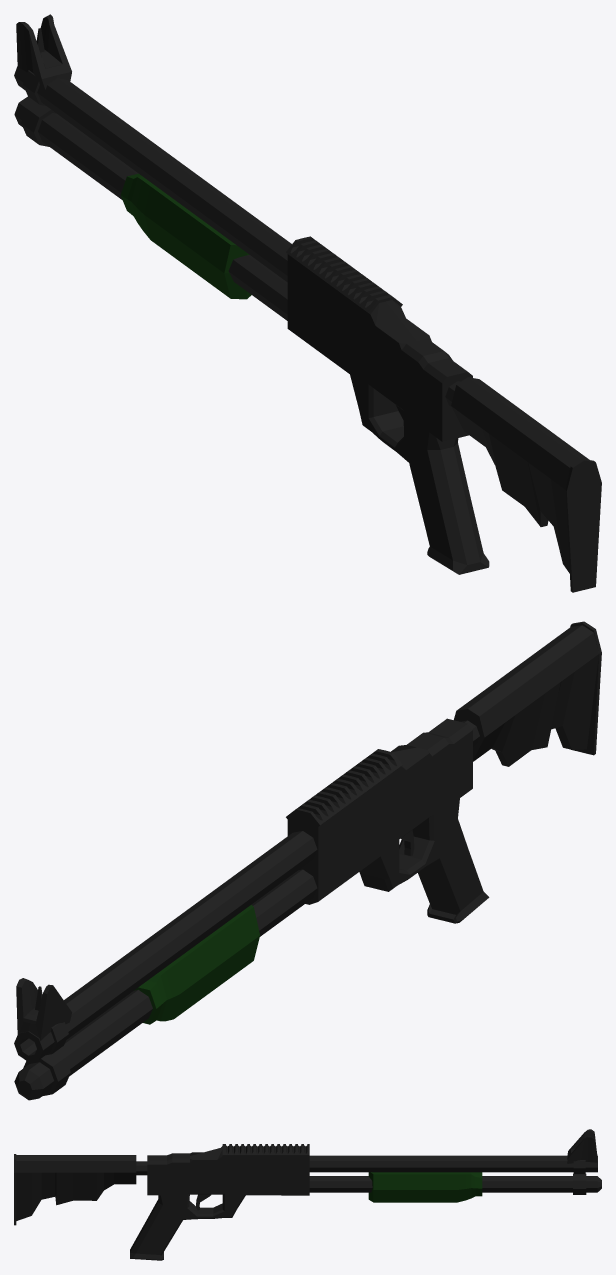
Rendered from shotgun_01.gltf.
3 renders of one model, top to bottom at view 1: azimuth 30°, elevation 25°; view 2: azimuth 150°, elevation 25°; view 3: azimuth 270°, elevation 25°, orthographic. The views are drawn at different scales.
Visible parts, largest first — view 1: Gun, Pump; view 2: Gun, Pump; view 3: Gun, Pump.
Boxes of the visible parts, x1,y1,x2,y2 form: Gun: (14, 14, 601, 592); Pump: (120, 173, 251, 299); Gun: (14, 621, 601, 1100); Pump: (134, 905, 260, 1024); Gun: (14, 1129, 601, 1260); Pump: (368, 1172, 482, 1202).
Bounding box in the file's own units: 0.148 × 0.8984 × 3.87.
